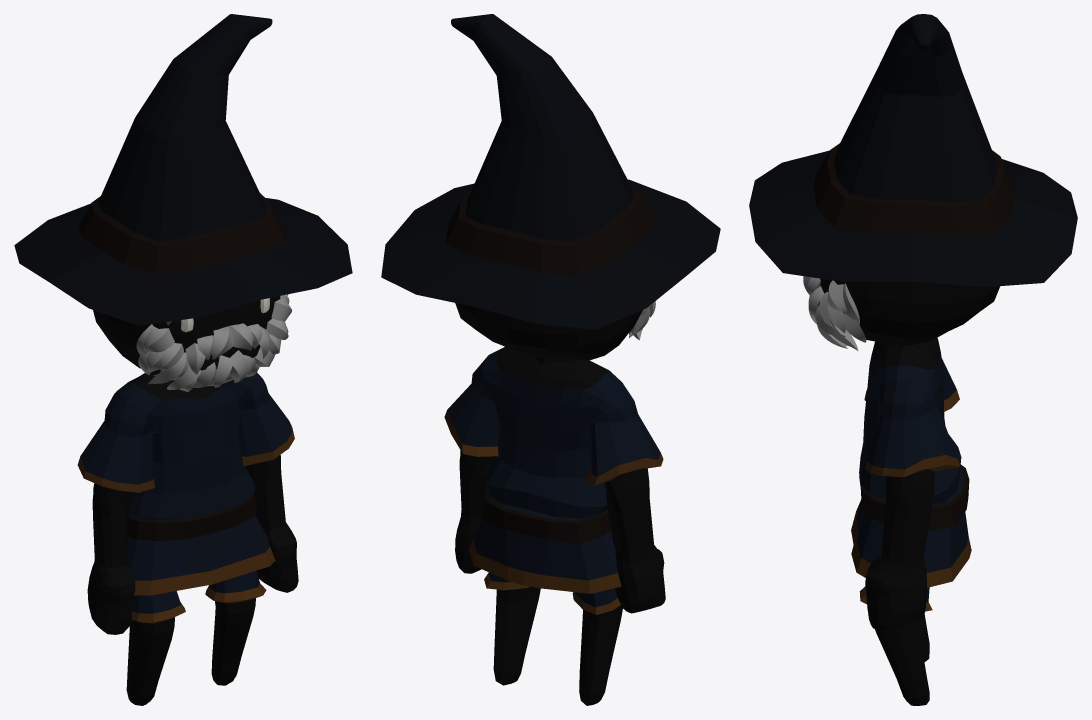
File: Wizard.obj
3 renders of one model, left to right at view 1: azimuth 30°, elevation 25°; view 2: azimuth 150°, elevation 25°; view 3: azimuth 270°, elevation 25°, orthographic. The views are drawn at different scales.
Visible parts, largest first — view 1: Body_Cube.004; view 2: Body_Cube.004; view 3: Body_Cube.004.
Boxes of the visible parts, x1,y1,x2,y2 form: Body_Cube.004: [14, 14, 352, 705]; Body_Cube.004: [381, 14, 720, 705]; Body_Cube.004: [749, 14, 1077, 705].
Bounding box in the file's own units: 1.73 × 4.06 × 1.73.
